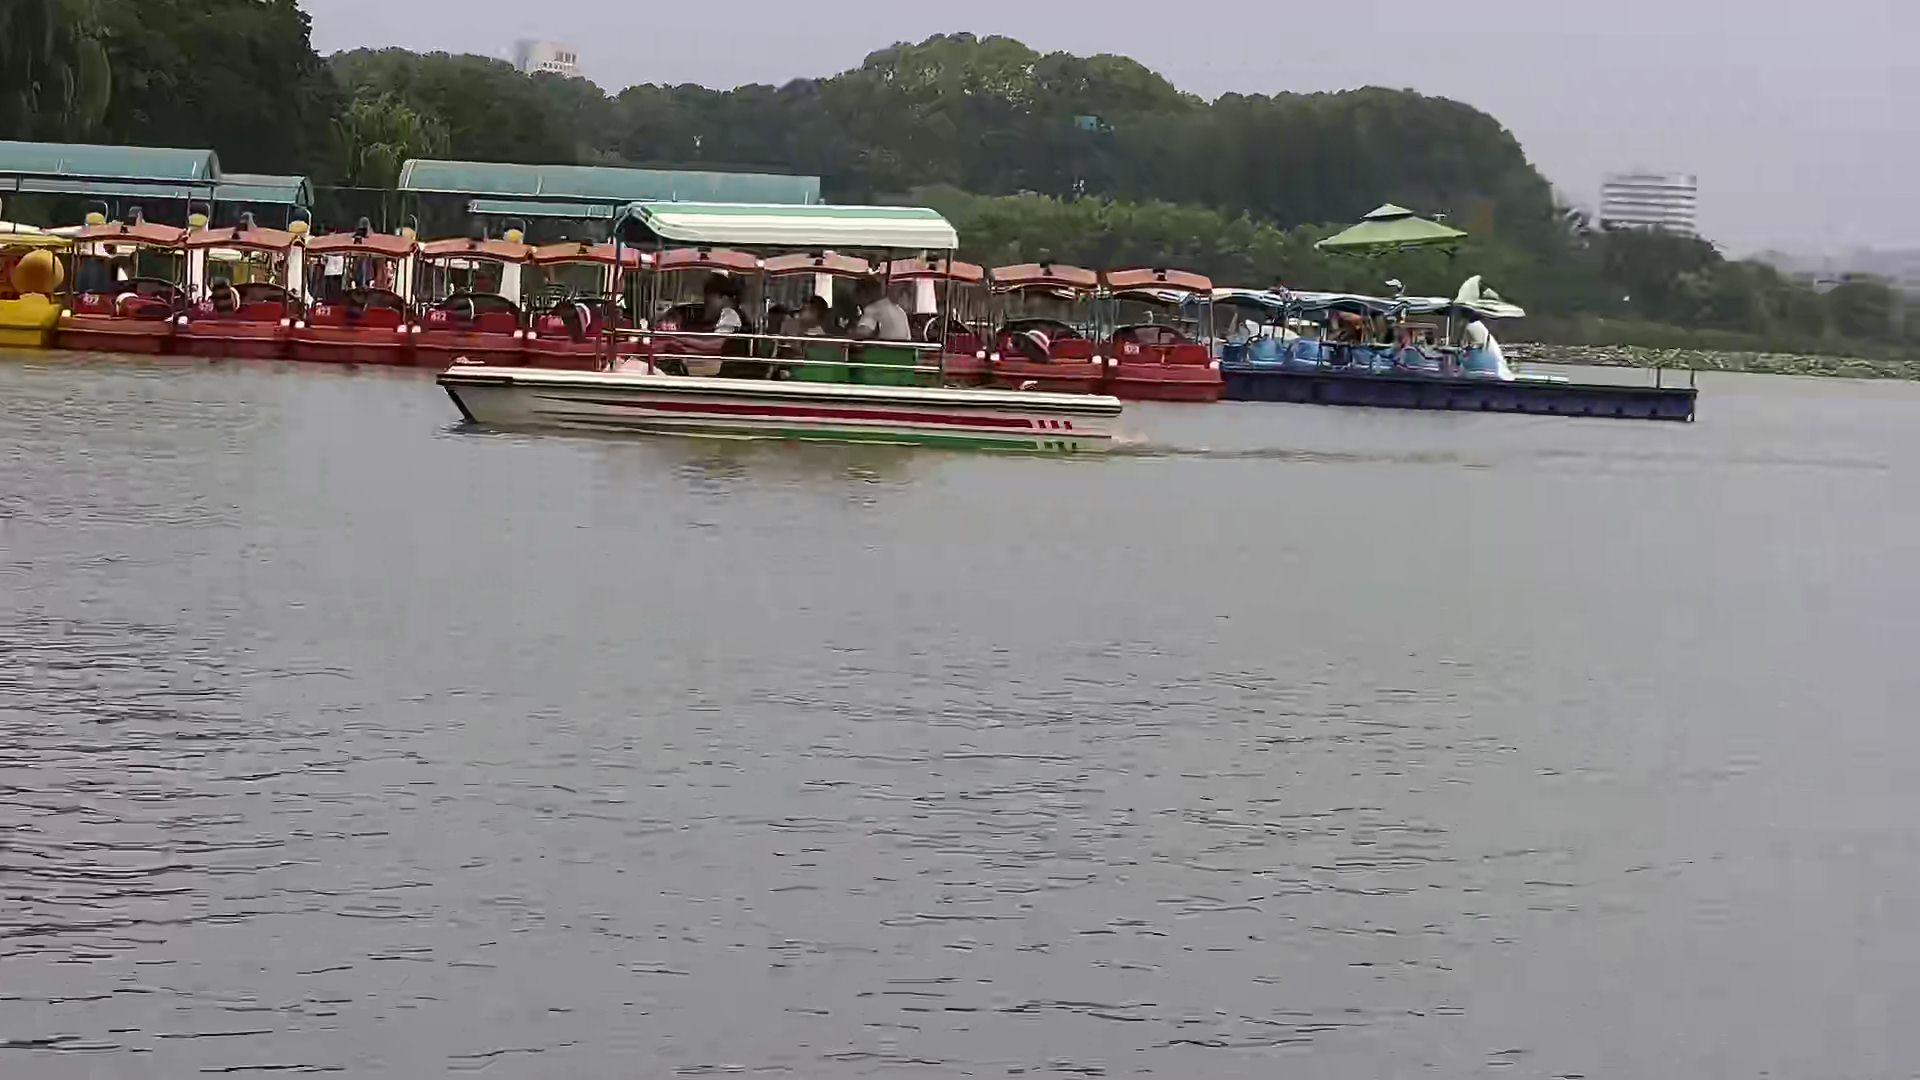boat: (442, 202, 1127, 446)
harbor: (25, 130, 1700, 416)
person: (692, 279, 758, 378)
